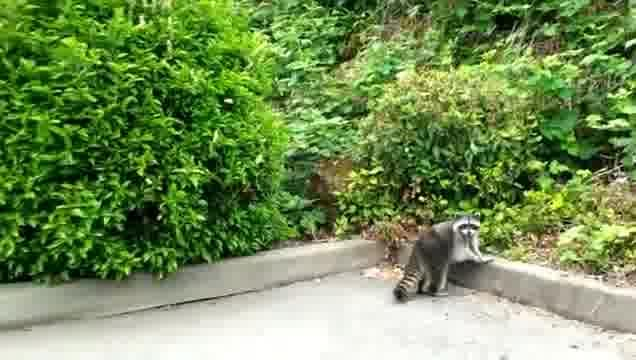raccoon: (396, 214, 495, 297)
